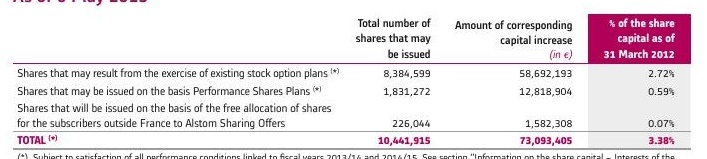table: (0, 0, 707, 159)
